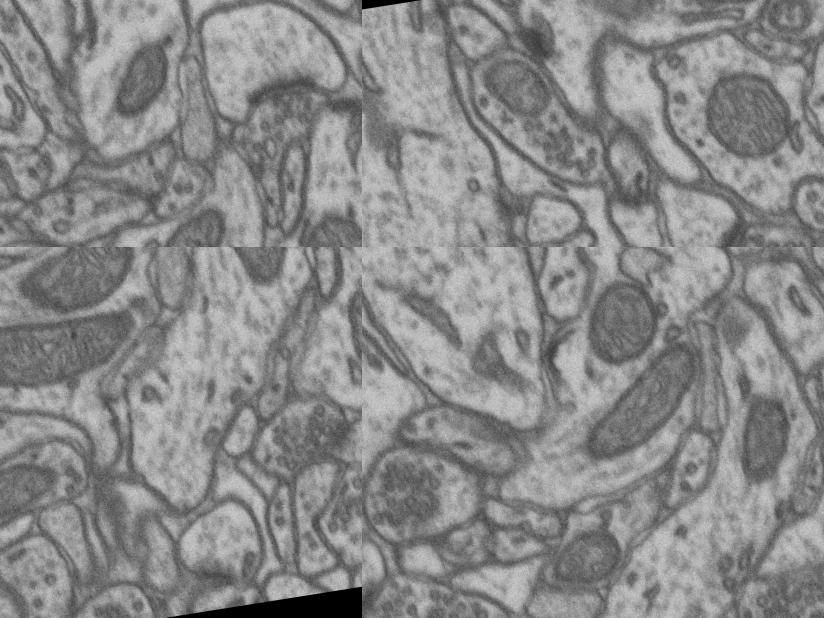mitochondria: (564, 336, 716, 476), (684, 53, 803, 181), (0, 301, 145, 405), (574, 268, 672, 377), (94, 28, 190, 136), (10, 247, 148, 320), (721, 384, 806, 494), (470, 36, 560, 132), (544, 520, 632, 596), (0, 453, 66, 530), (150, 196, 241, 247), (287, 193, 362, 247), (224, 247, 295, 291), (756, 0, 824, 43), (339, 264, 362, 389)
